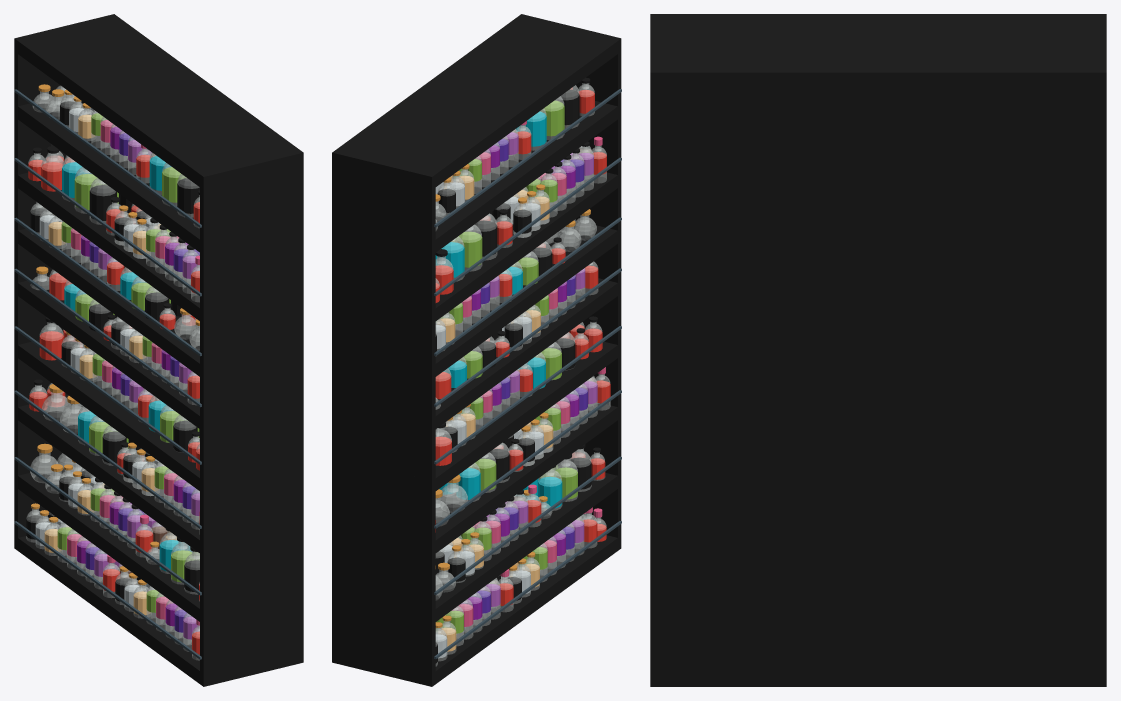
The model's file is Liquor Shelf.glb.
The picture shows the model from 3 angles, left to right: view 1: azimuth 30°, elevation 25°; view 2: azimuth 150°, elevation 25°; view 3: azimuth 270°, elevation 25°; orthographic projection. The views are drawn at different scales.
Parts seen in each view (by area): view 1: group1111299608, group2015965494, group203532512, group1798681831, group1491697805, group1978441563, group1211428275, group1572206123, group537607480, group2038274464, group524194341, group49499787 (+33 smaller); view 2: group323344644, group2015965494, group1798681831, group203532512, group1491697805, group1978441563, group49499787, group537607480, group1211428275, group524194341, group1572206123, group2038274464 (+31 smaller); view 3: group1860022558, group2015965494, group1491697805, group1211428275, group1782101537, group49499787, group537607480, group2038274464, group1572206123, group524194341, group1978441563, group1257604780.
Part boxes in pixels (left/top/right/bottom): group1111299608: left=238, top=161, right=300, bottom=671; group2015965494: left=14, top=14, right=303, bottom=186; group203532512: left=200, top=178, right=241, bottom=686; group1798681831: left=14, top=48, right=55, bottom=550; group1491697805: left=18, top=95, right=297, bottom=252; group1978441563: left=18, top=228, right=297, bottom=379; group1211428275: left=18, top=536, right=297, bottom=686; group1572206123: left=18, top=275, right=292, bottom=431; group537607480: left=18, top=395, right=237, bottom=555; group2038274464: left=18, top=462, right=237, bottom=624; group524194341: left=18, top=172, right=297, bottom=320; group49499787: left=18, top=340, right=199, bottom=490; group323344644: left=335, top=166, right=397, bottom=664; group2015965494: left=332, top=14, right=621, bottom=189; group1798681831: left=394, top=182, right=435, bottom=686; group203532512: left=580, top=48, right=621, bottom=550; group1491697805: left=332, top=101, right=617, bottom=255; group1978441563: left=332, top=220, right=617, bottom=379; group49499787: left=332, top=341, right=617, bottom=493; group537607480: left=332, top=403, right=617, bottom=555; group1211428275: left=332, top=535, right=617, bottom=686; group524194341: left=332, top=172, right=617, bottom=323; group1572206123: left=332, top=278, right=617, bottom=431; group2038274464: left=332, top=473, right=617, bottom=621; group1860022558: left=659, top=88, right=1102, bottom=686; group2015965494: left=650, top=14, right=1106, bottom=88; group1491697805: left=653, top=151, right=1106, bottom=167; group1211428275: left=650, top=671, right=1106, bottom=686; group1782101537: left=650, top=80, right=658, bottom=671; group49499787: left=821, top=439, right=1106, bottom=454; group537607480: left=845, top=513, right=1106, bottom=529; group2038274464: left=650, top=596, right=1106, bottom=612; group1572206123: left=830, top=364, right=1106, bottom=379; group524194341: left=862, top=234, right=1106, bottom=249; group1978441563: left=885, top=301, right=1106, bottom=316; group1257604780: left=1098, top=88, right=1106, bottom=686.
Bounding box in the file's own units: 0.3886 × 1.86 × 1.25.
